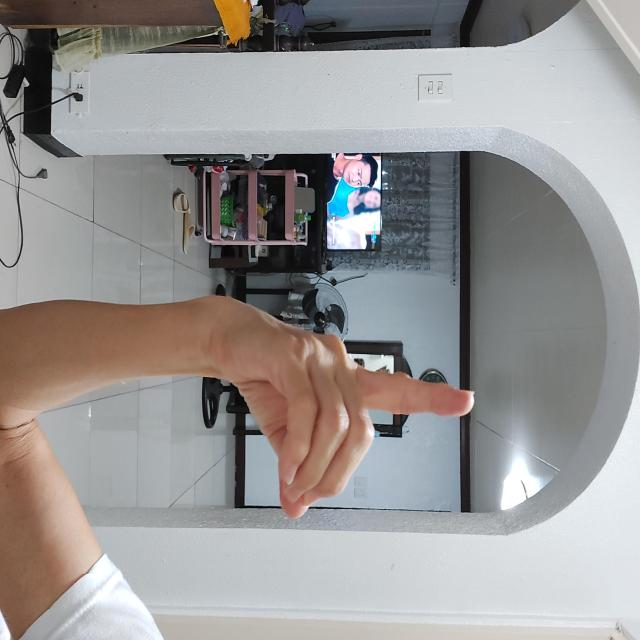D: (293, 165, 522, 440)
